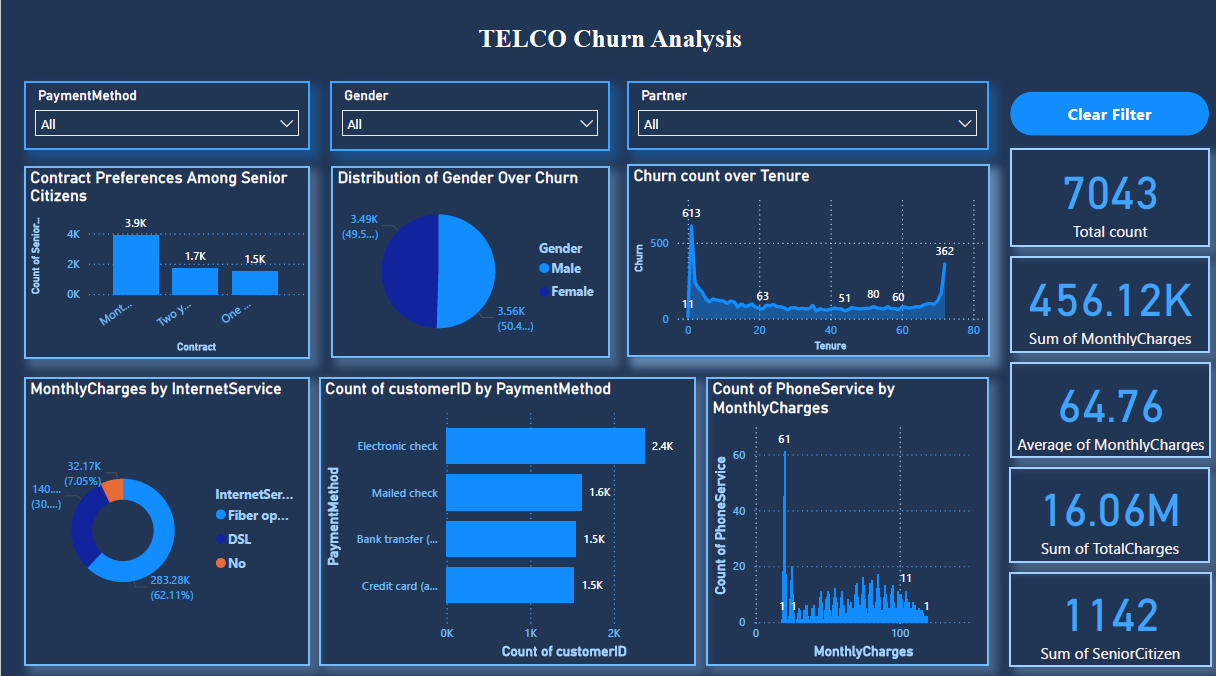

Layout of this report page (visuals, bound fields, positions):
{"tool":"powerbi","page":{"name":"Dashboard","canvas":[1280,720],"ordinal":0},"visuals":[{"type":"shape","title":"TELCO Churn Analysis","box":[0,0,1280.3,89.2],"z":0},{"type":"card","fields":{"Values":["Sum(WA_Fn-UseC_-Telco-Customer-Churn.TotalCharges)"]},"box":[1060,494.3,211.4,101.4],"z":1000},{"type":"card","fields":{"Values":["Sum(WA_Fn-UseC_-Telco-Customer-Churn.MonthlyCharges)"]},"box":[1061.4,272.9,210,101.4],"z":2000},{"type":"card","fields":{"Values":["WA_Fn-UseC_-Telco-Customer-Churn.Total count"]},"box":[1061.4,158.6,210,104.3],"z":3000},{"type":"card","fields":{"Values":["Avg(WA_Fn-UseC_-Telco-Customer-Churn.MonthlyCharges)"]},"box":[1061.4,384.3,211.4,101.4],"z":4000},{"type":"pieChart","title":"Distribution of Gender Over Churn","fields":{"Y":["CountNonNull(WA_Fn-UseC_-Telco-Customer-Churn.Churn)"],"Category":["WA_Fn-UseC_-Telco-Customer-Churn.gender"]},"box":[346.7,177.8,293.3,202.2],"z":5000},{"type":"columnChart","title":"Contract Preferences Among Senior Citizens","fields":{"Y":["CountNonNull(WA_Fn-UseC_-Telco-Customer-Churn.SeniorCitizen)"],"Category":["WA_Fn-UseC_-Telco-Customer-Churn.Contract"]},"box":[23.8,177.5,301.2,202.5],"z":6000},{"type":"clusteredBarChart","fields":{"Y":["CountNonNull(WA_Fn-UseC_-Telco-Customer-Churn.customerID)"],"Category":["WA_Fn-UseC_-Telco-Customer-Churn.PaymentMethod"]},"box":[334.3,400,395.7,302.9],"z":7000},{"type":"card","fields":{"Values":["Sum(WA_Fn-UseC_-Telco-Customer-Churn.SeniorCitizen)"]},"box":[1060,605,212.5,98.8],"z":8000},{"type":"donutChart","title":"MonthlyCharges by InternetService","fields":{"Category":["WA_Fn-UseC_-Telco-Customer-Churn.InternetService"],"Y":["Sum(WA_Fn-UseC_-Telco-Customer-Churn.MonthlyCharges)"]},"box":[24.3,400,301.4,302.9],"z":9000},{"type":"areaChart","title":"Churn count over Tenure","fields":{"Category":["WA_Fn-UseC_-Telco-Customer-Churn.tenure"],"Y":["CountNonNull(WA_Fn-UseC_-Telco-Customer-Churn.Churn)"]},"box":[657.8,175.6,381.1,203.3],"z":10000},{"type":"slicer","fields":{"Values":["WA_Fn-UseC_-Telco-Customer-Churn.PaymentMethod"]},"box":[24.4,88.9,301.1,72.2],"z":11000},{"type":"slicer","fields":{"Values":["WA_Fn-UseC_-Telco-Customer-Churn.gender"]},"box":[345.6,88.9,294.4,73.3],"z":12000},{"type":"slicer","fields":{"Values":["WA_Fn-UseC_-Telco-Customer-Churn.Partner"]},"box":[657.8,88.9,380,72.2],"z":13000},{"type":"shape","box":[1061.4,100,208.6,45.7],"z":14000},{"type":"clusteredColumnChart","fields":{"Category":["WA_Fn-UseC_-Telco-Customer-Churn.MonthlyCharges"],"Y":["CountNonNull(WA_Fn-UseC_-Telco-Customer-Churn.PhoneService)"]},"box":[741.4,400,297.1,302.9],"z":15000}]}

Visuals, with their boxes in screenshot pixels (x1, y1, x2, y2), scaled from the page's 1280x720 canvas onto the 1216x676 screenshot:
"TELCO Churn Analysis" shape: x1=0, y1=0, x2=1215, y2=84
card - Sum(WA_Fn-UseC_-Telco-Customer-Churn.TotalCharges): x1=1007, y1=464, x2=1208, y2=559
card - Sum(WA_Fn-UseC_-Telco-Customer-Churn.MonthlyCharges): x1=1008, y1=256, x2=1208, y2=351
card - WA_Fn-UseC_-Telco-Customer-Churn.Total count: x1=1008, y1=149, x2=1208, y2=247
card - Avg(WA_Fn-UseC_-Telco-Customer-Churn.MonthlyCharges): x1=1008, y1=361, x2=1209, y2=456
"Distribution of Gender Over Churn" pieChart: x1=329, y1=167, x2=608, y2=357
"Contract Preferences Among Senior Citizens" columnChart: x1=23, y1=167, x2=309, y2=357
clusteredBarChart - CountNonNull(WA_Fn-UseC_-Telco-Customer-Churn.customerID) x WA_Fn-UseC_-Telco-Customer-Churn.PaymentMethod: x1=318, y1=376, x2=694, y2=660
card - Sum(WA_Fn-UseC_-Telco-Customer-Churn.SeniorCitizen): x1=1007, y1=568, x2=1209, y2=661
"MonthlyCharges by InternetService" donutChart: x1=23, y1=376, x2=309, y2=660
"Churn count over Tenure" areaChart: x1=625, y1=165, x2=987, y2=356
slicer - WA_Fn-UseC_-Telco-Customer-Churn.PaymentMethod: x1=23, y1=83, x2=309, y2=151
slicer - WA_Fn-UseC_-Telco-Customer-Churn.gender: x1=328, y1=83, x2=608, y2=152
slicer - WA_Fn-UseC_-Telco-Customer-Churn.Partner: x1=625, y1=83, x2=986, y2=151
shape: x1=1008, y1=94, x2=1206, y2=137
clusteredColumnChart - WA_Fn-UseC_-Telco-Customer-Churn.MonthlyCharges x CountNonNull(WA_Fn-UseC_-Telco-Customer-Churn.PhoneService): x1=704, y1=376, x2=987, y2=660
